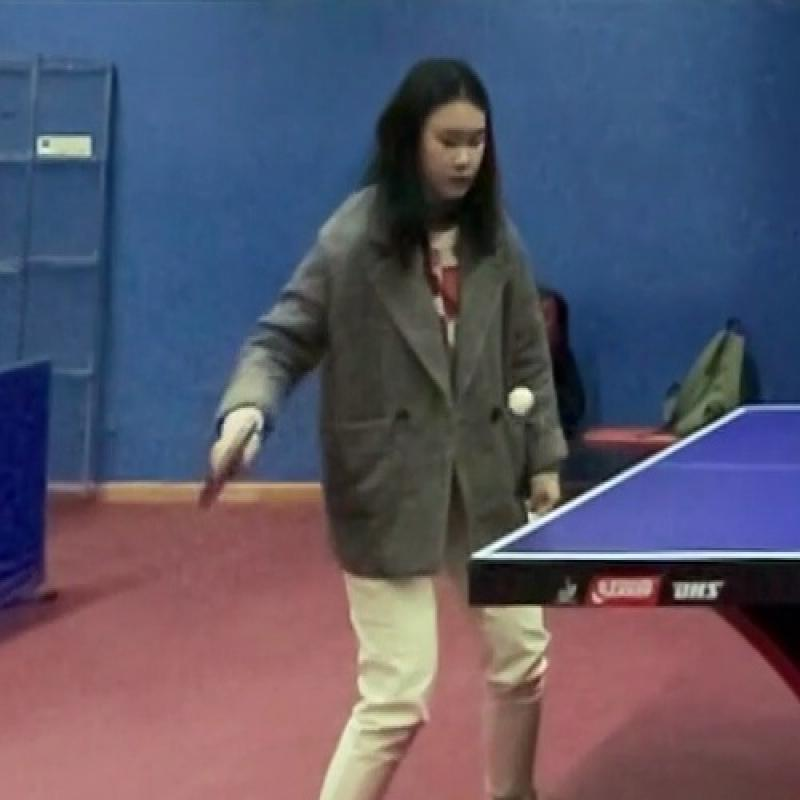bats: (198, 403, 278, 509)
